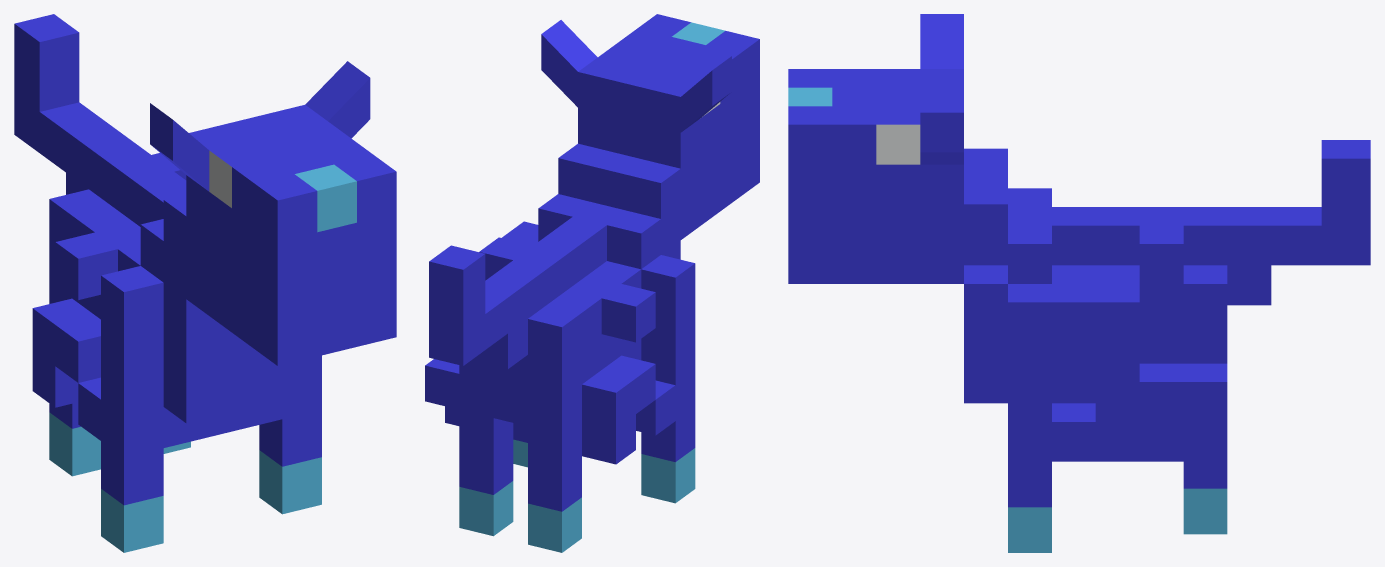
The model's file is catlike1.glb.
3 renders of one model, left to right at view 1: azimuth 30°, elevation 25°; view 2: azimuth 150°, elevation 25°; view 3: azimuth 270°, elevation 25°, orthographic. The views are drawn at different scales.
Parts seen in each view (by area): view 1: Cube; view 2: Cube; view 3: Cube.
Part boxes in pixels (left/top/right/bottom): Cube: left=14, top=14, right=396, bottom=552; Cube: left=425, top=14, right=759, bottom=552; Cube: left=788, top=14, right=1370, bottom=552.
Bounding box in the file's own units: 0.5962 × 1.32 × 1.56.
